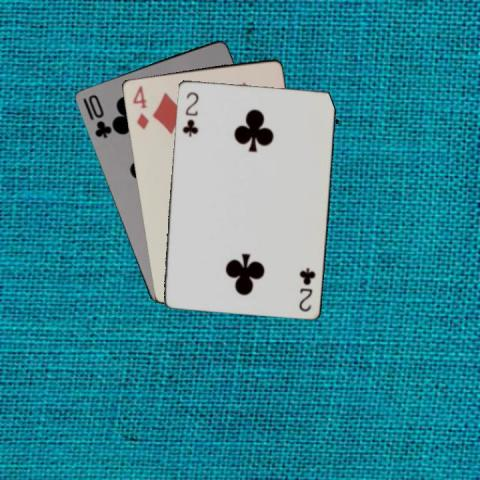10c: (79, 92, 113, 140)
2c: (179, 89, 200, 138), (296, 264, 316, 313)
4d: (129, 82, 150, 131)
